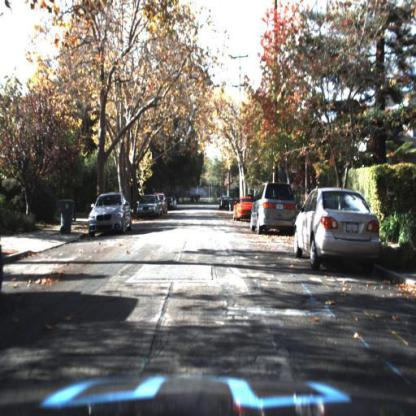car: (289, 177, 387, 280), (295, 189, 382, 269), (250, 172, 297, 240), (248, 178, 300, 234), (87, 189, 134, 235), (234, 203, 257, 230), (138, 195, 160, 219), (160, 193, 169, 222)
